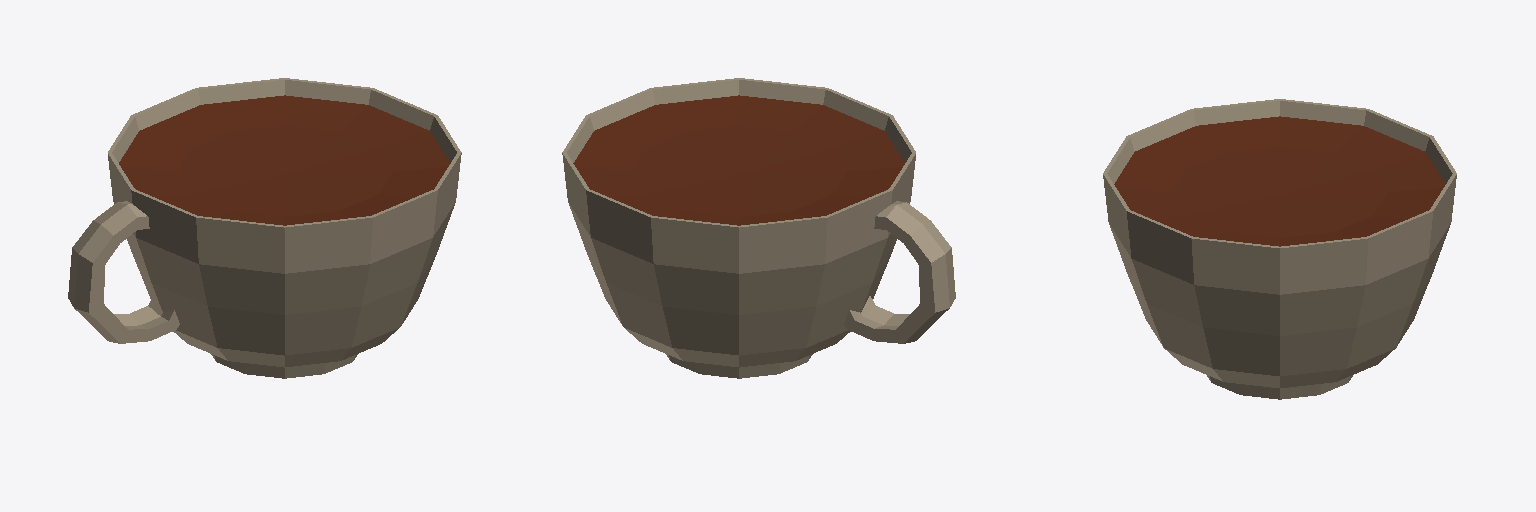
Rendered from teacupedit.v2.obj.
3 views of the same model, side by side, from view 1: azimuth 30°, elevation 25°; view 2: azimuth 150°, elevation 25°; view 3: azimuth 270°, elevation 25° (orthographic).
Parts seen in each view (by area): view 1: teacup; view 2: teacup; view 3: teacup.
Part boxes in pixels (x1,y1,x2,y2): teacup: (68, 78, 461, 378); teacup: (562, 78, 955, 378); teacup: (1103, 99, 1456, 399).
Size of the model in its own units: 4.3 by 2.17 by 3.63.